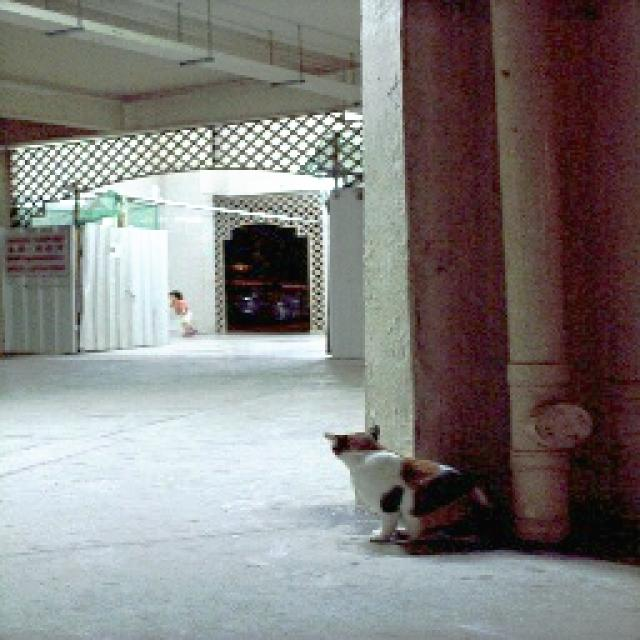cat: (322, 423, 498, 560)
